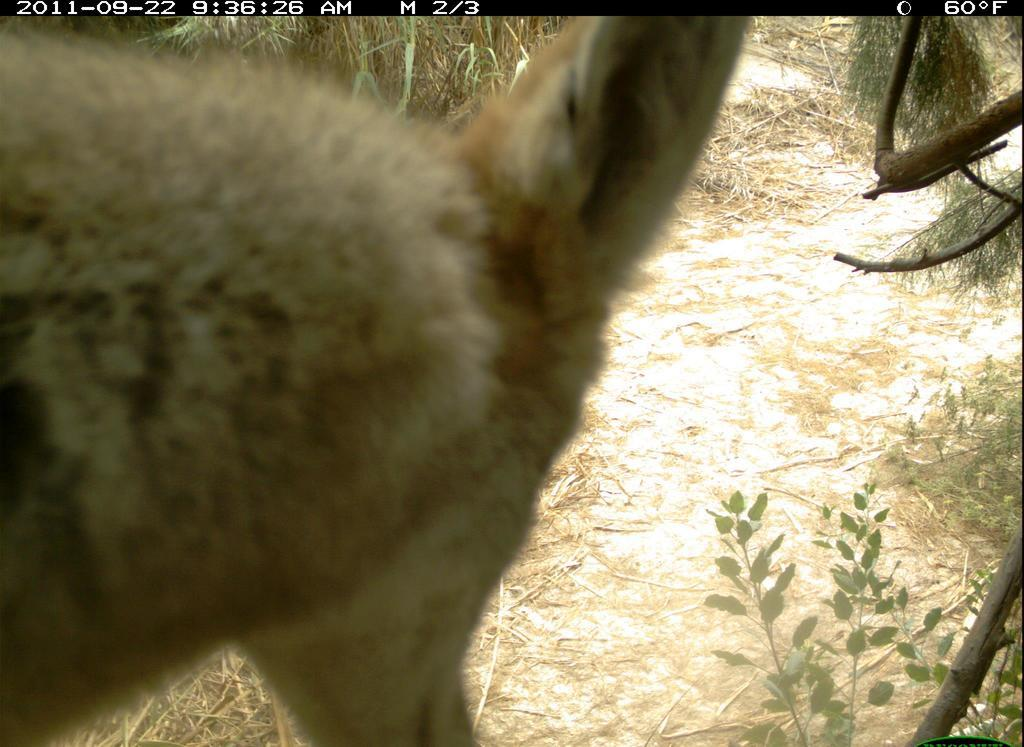coyote: (1, 16, 770, 745)
